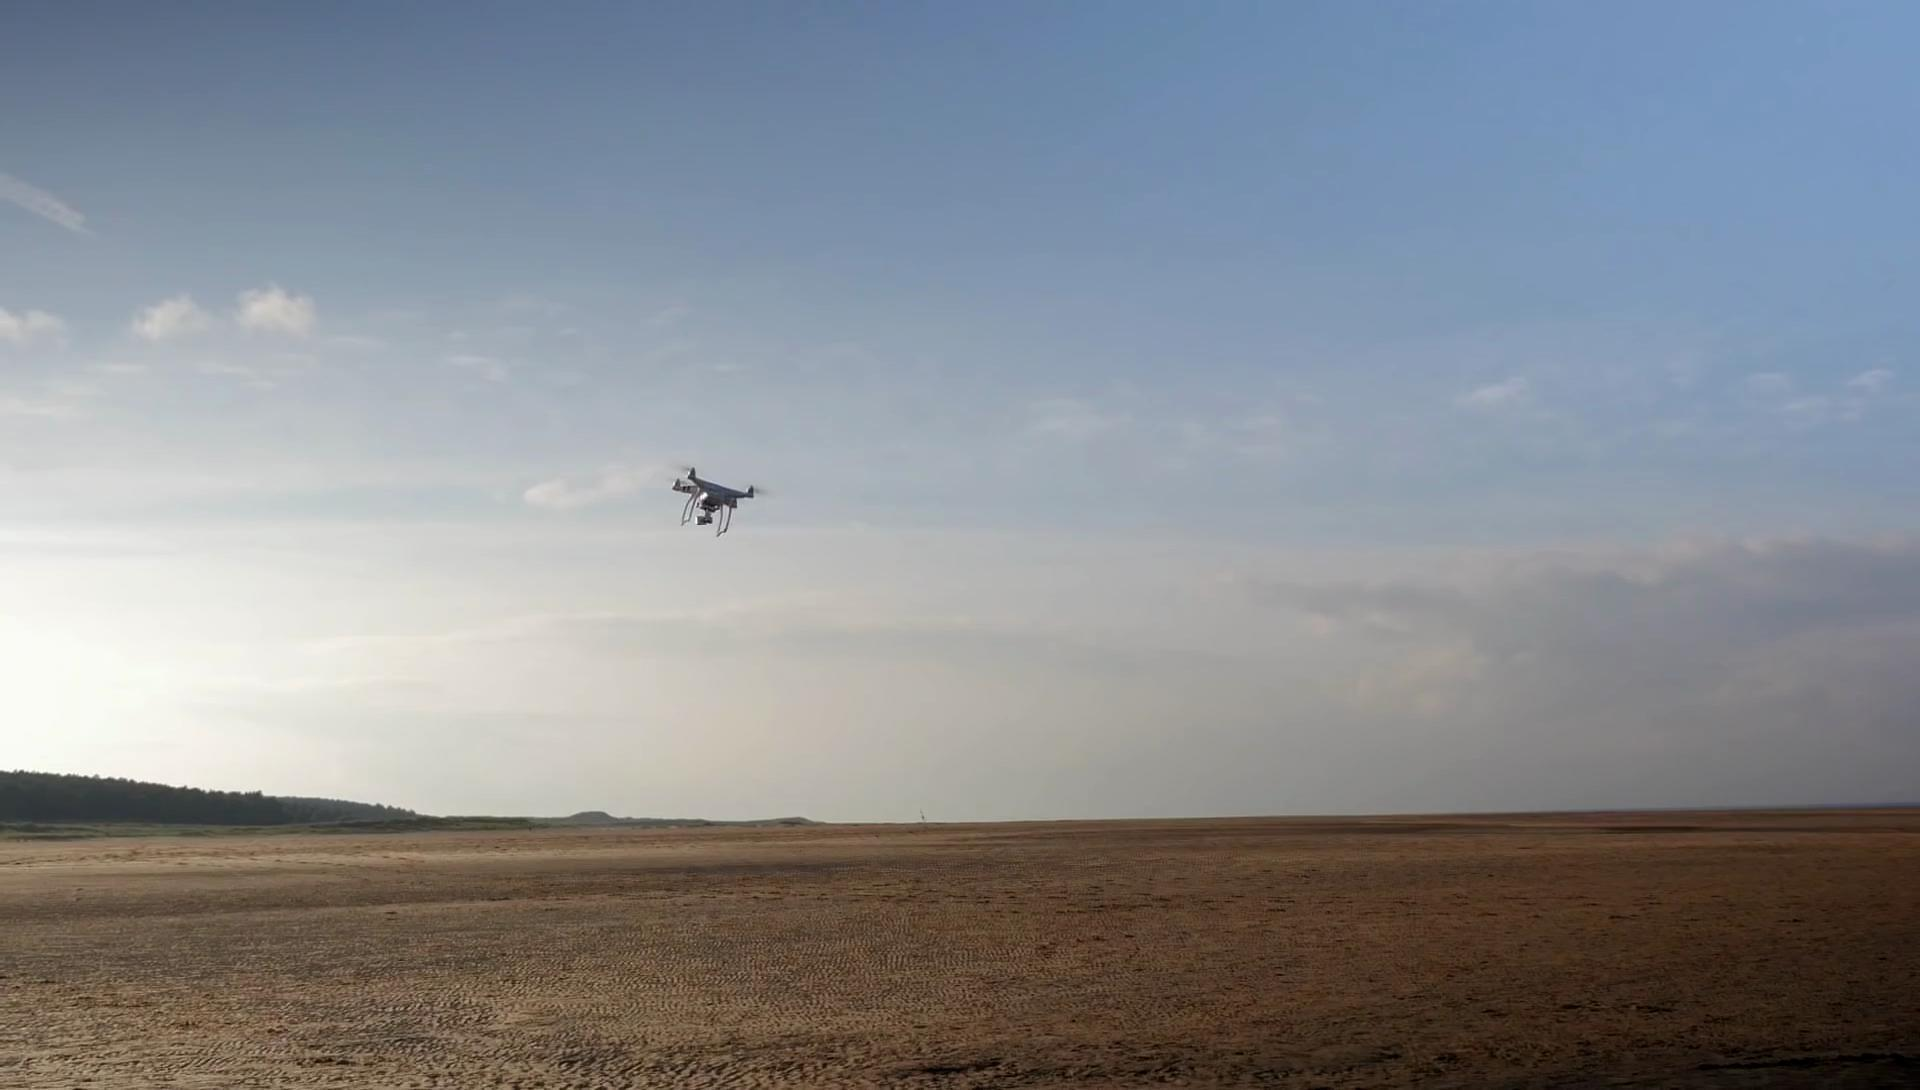drone: (669, 453, 756, 536)
